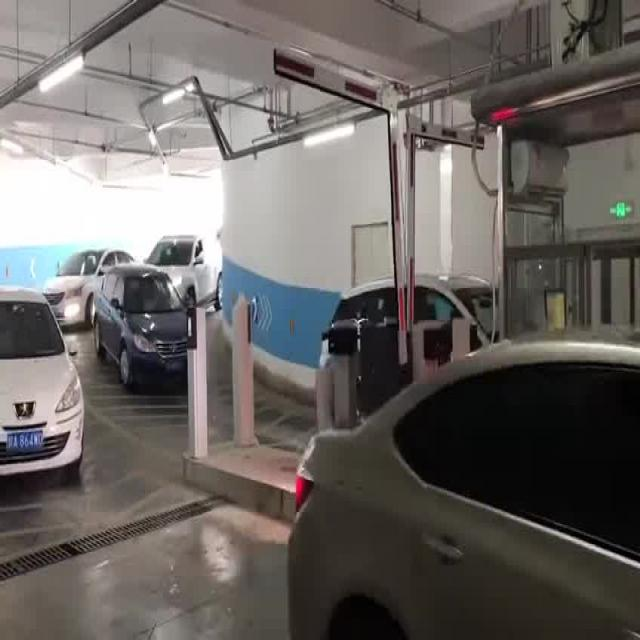CarIn: (289, 316, 640, 640), (301, 249, 491, 388), (1, 272, 85, 491), (94, 261, 203, 395), (42, 219, 140, 336), (141, 240, 230, 304)
GateOpened: (257, 36, 408, 380), (403, 96, 488, 363)
